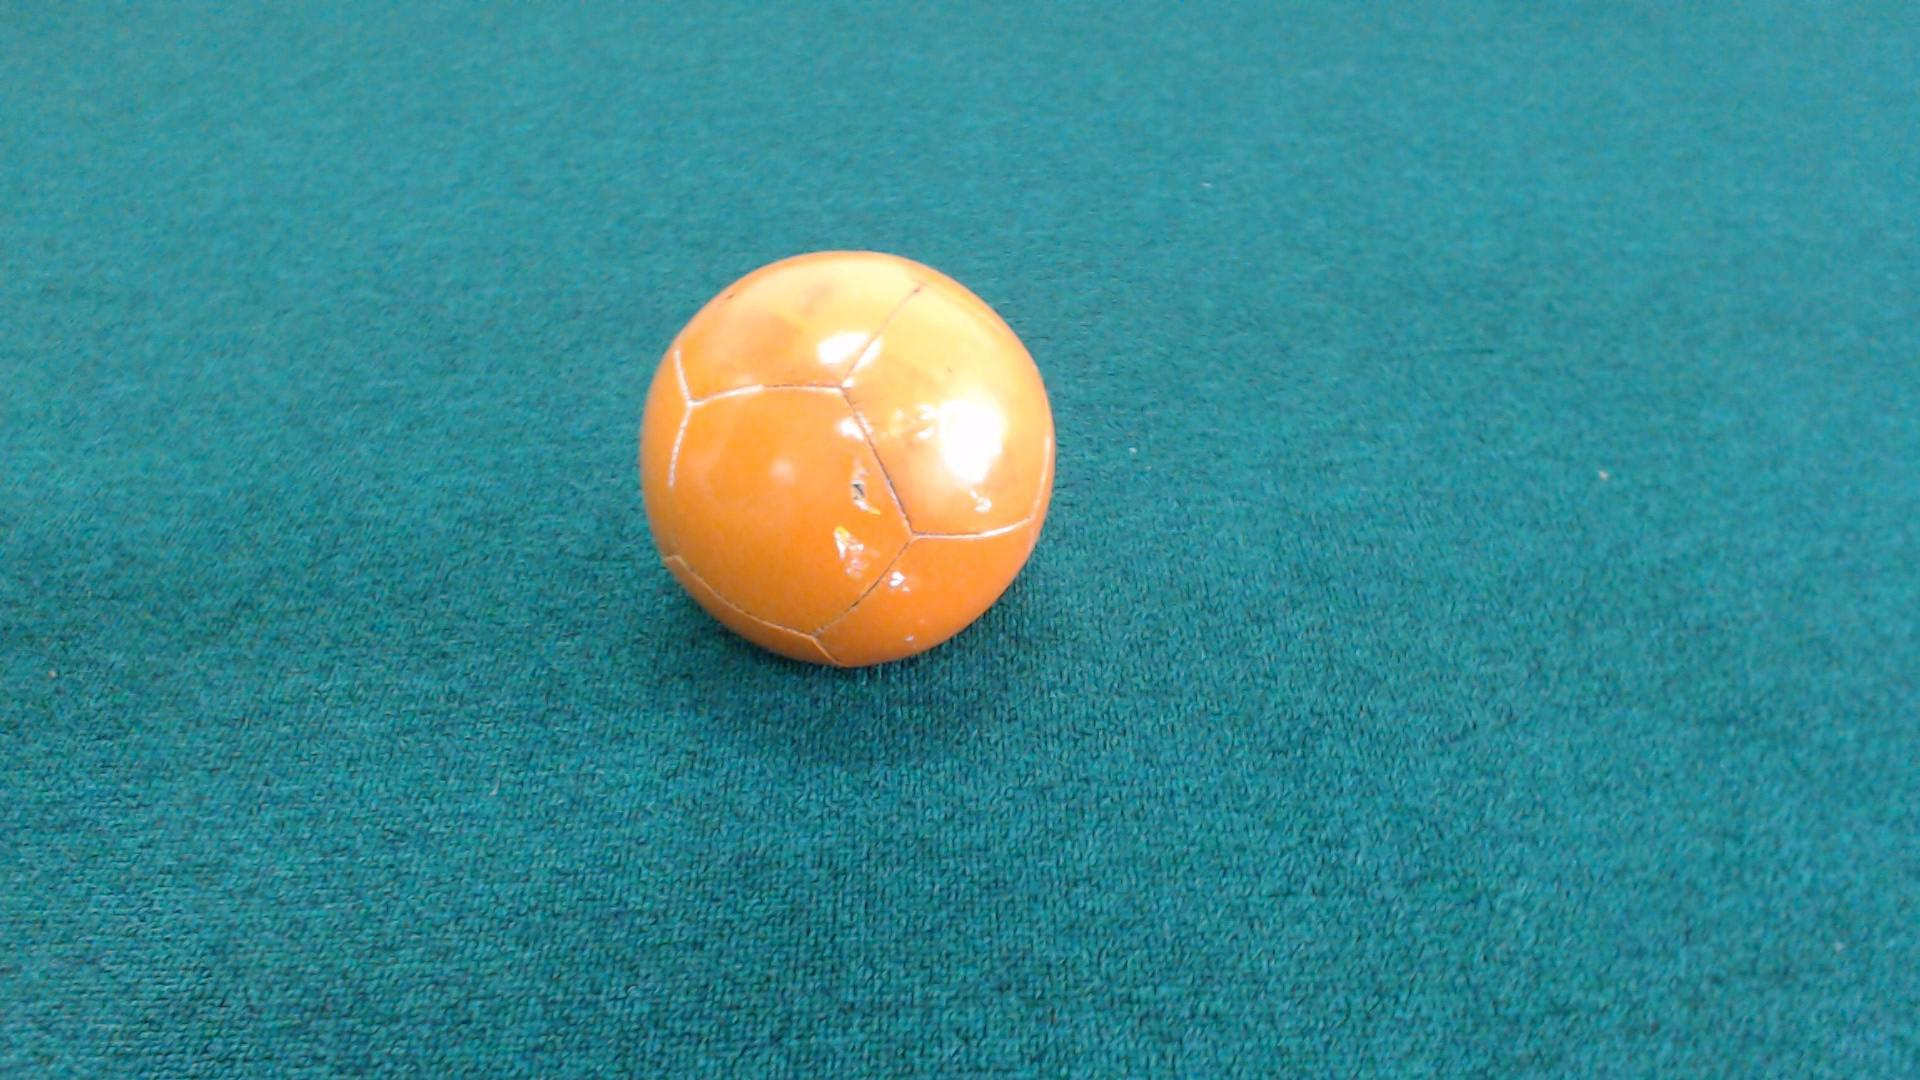bola: (621, 236, 1067, 711)
